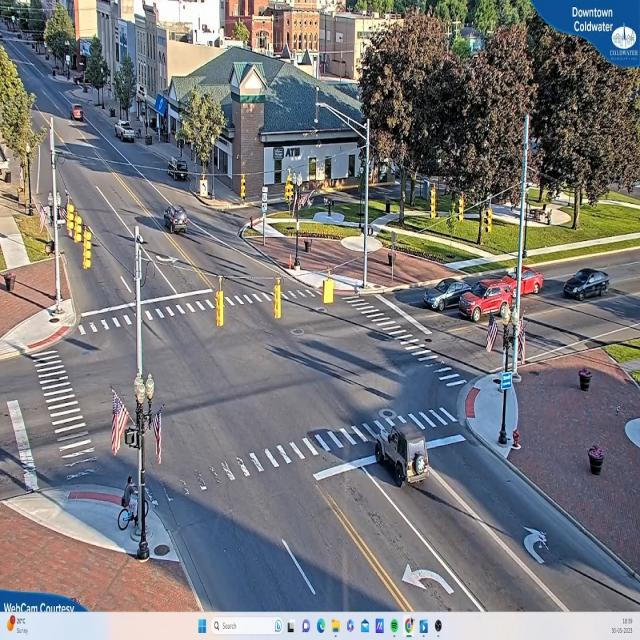car: (369, 420, 431, 486), (462, 279, 512, 322), (564, 267, 609, 300), (424, 276, 462, 313), (510, 264, 542, 300), (162, 202, 192, 230), (164, 157, 190, 180), (116, 123, 136, 143)
